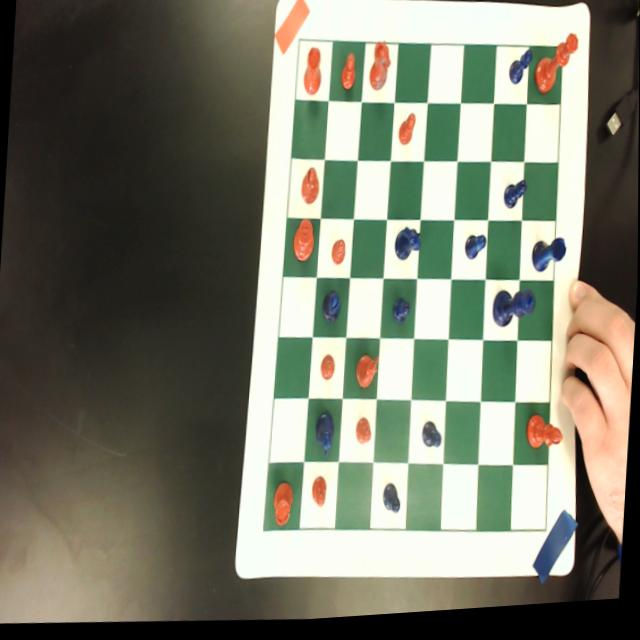B: (322, 295, 343, 328)
K: (491, 294, 537, 336)
N: (395, 229, 424, 266), (315, 415, 335, 464)
P: (508, 56, 534, 93), (503, 184, 528, 218), (382, 489, 404, 521), (465, 239, 488, 268), (392, 301, 412, 331), (422, 427, 443, 455)
R: (531, 242, 568, 281)
b: (526, 419, 565, 459), (302, 171, 321, 211)
k: (292, 222, 316, 268)
n: (368, 44, 392, 98), (354, 357, 380, 394)
p: (341, 56, 357, 97), (311, 478, 329, 514), (398, 117, 416, 152), (355, 421, 373, 451), (320, 357, 337, 386), (332, 242, 347, 270)
q: (534, 39, 580, 105)
r: (272, 484, 297, 533), (303, 50, 325, 99)
